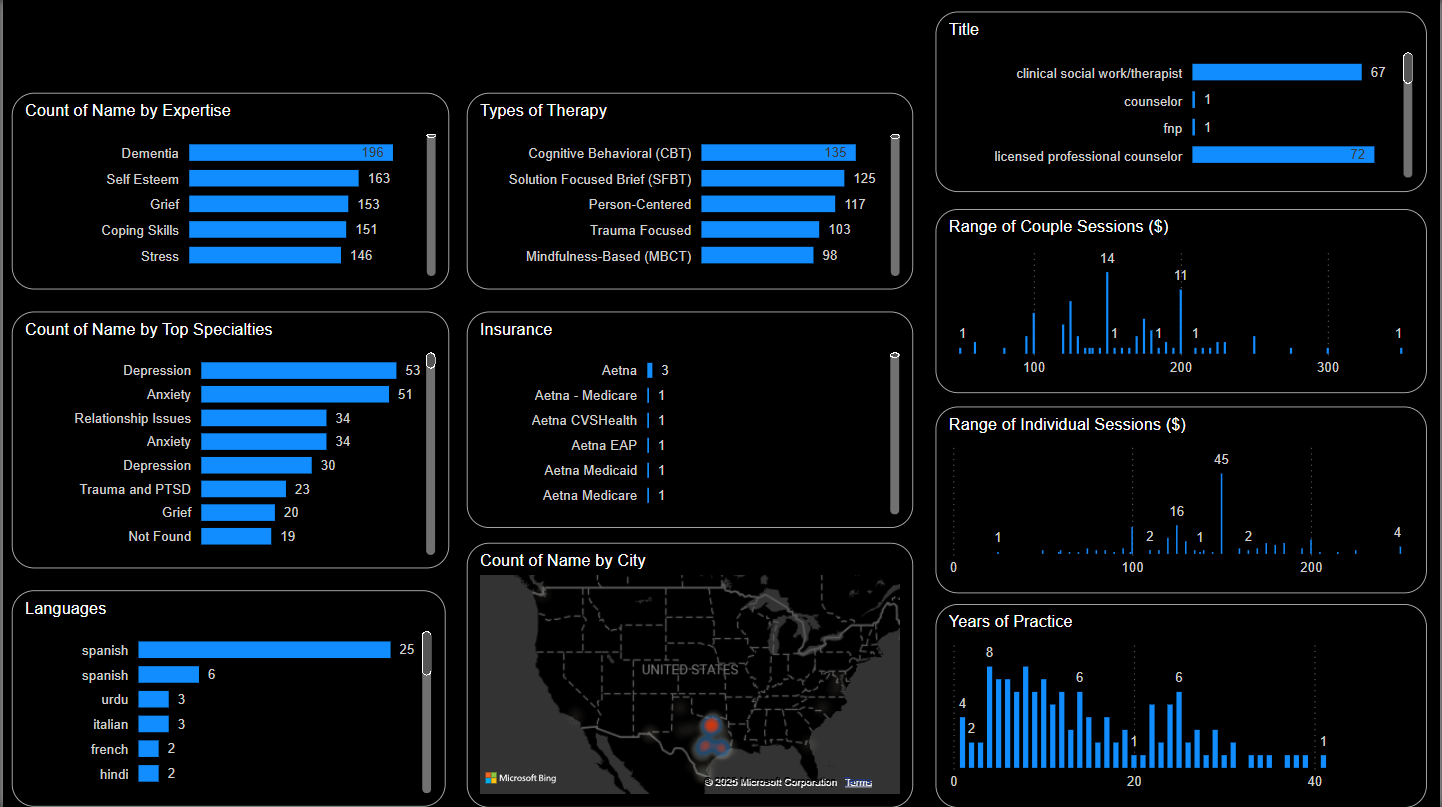

The dashboard page shown, as its layout file describes it:
{"tool":"powerbi","page":{"name":"Page 1","canvas":[1280,720],"ordinal":0},"visuals":[{"type":"clusteredBarChart","title":"Languages","fields":{"Y":["CountNonNull(Language.Name)"],"Category":["Language.I also speak"]},"box":[8.1,526.7,386,193],"z":0},{"type":"clusteredBarChart","title":"Insurance","fields":{"Category":["Insurance.Insurance"],"Y":["CountNonNull(Insurance.Name)"]},"box":[412.8,277.9,397.7,193],"z":1000},{"type":"clusteredBarChart","title":"Title","fields":{"Category":["Title.Title"],"Y":["CountNonNull(Title.Name)"]},"box":[830.2,11.6,437.2,160.5],"z":2000},{"type":"clusteredColumnChart","title":"Years of Practice","fields":{"Category":["Dementia.In Practice (years)"],"Y":["CountNonNull(Dementia.Name)"]},"box":[830.2,538.4,437.2,181.4],"z":3000},{"type":"clusteredColumnChart","title":"Range of Individual Sessions ($)","fields":{"Y":["CountNonNull(Dementia.Name)"],"Category":["Dementia.Individual Sessions ($)"]},"box":[830.2,362.8,437.2,166.3],"z":4000},{"type":"clusteredColumnChart","title":"Range of Couple Sessions ($)","fields":{"Y":["CountNonNull(Dementia.Name)"],"Category":["Dementia.Couple Sessions ($)"]},"box":[830.2,187.2,437.2,164],"z":5000},{"type":"map","fields":{"Category":["City.City"],"Size":["CountNonNull(City.Name)"]},"box":[412.8,483.7,397.7,236],"z":6000},{"type":"clusteredBarChart","fields":{"Category":["Expertise.Expertise"],"Y":["CountNonNull(Expertise.Name)"]},"box":[8.1,83.7,389.5,175.6],"z":6001},{"type":"clusteredBarChart","fields":{"Category":["Top Specialties.Top Specialties"],"Y":["CountNonNull(Top Specialties.Name)"]},"box":[8.1,277.9,389.5,229.1],"z":6002},{"type":"clusteredBarChart","title":"Types of Therapy","fields":{"Category":["Types of Therapy.Types of Therapy"],"Y":["CountNonNull(Types of Therapy.Name)"]},"box":[412.8,83.7,397.7,175.6],"z":6003}]}

Visuals, with their boxes in screenshot pixels (x1, y1, x2, y2), scaled from the page's 1280x720 canvas onto the 1442x807 screenshot:
"Languages" clusteredBarChart: left=9, top=590, right=444, bottom=806
"Insurance" clusteredBarChart: left=465, top=311, right=913, bottom=528
"Title" clusteredBarChart: left=935, top=13, right=1428, bottom=193
"Years of Practice" clusteredColumnChart: left=935, top=603, right=1428, bottom=806
"Range of Individual Sessions ($)" clusteredColumnChart: left=935, top=407, right=1428, bottom=593
"Range of Couple Sessions ($)" clusteredColumnChart: left=935, top=210, right=1428, bottom=394
map - City.City x CountNonNull(City.Name): left=465, top=542, right=913, bottom=806
clusteredBarChart - Expertise.Expertise x CountNonNull(Expertise.Name): left=9, top=94, right=448, bottom=291
clusteredBarChart - Top Specialties.Top Specialties x CountNonNull(Top Specialties.Name): left=9, top=311, right=448, bottom=568
"Types of Therapy" clusteredBarChart: left=465, top=94, right=913, bottom=291
